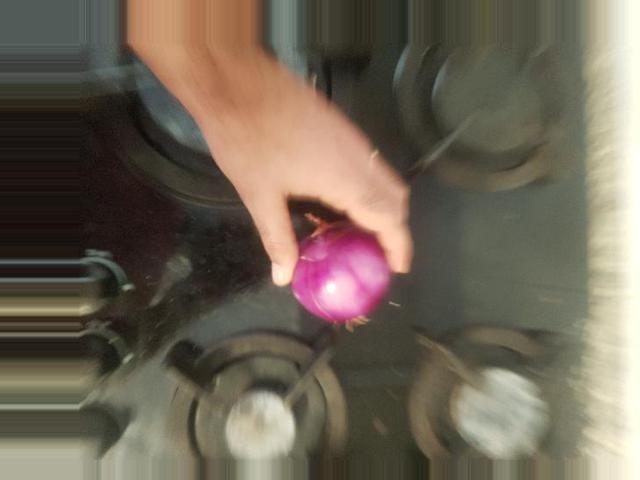onion: (377, 289, 493, 416)
